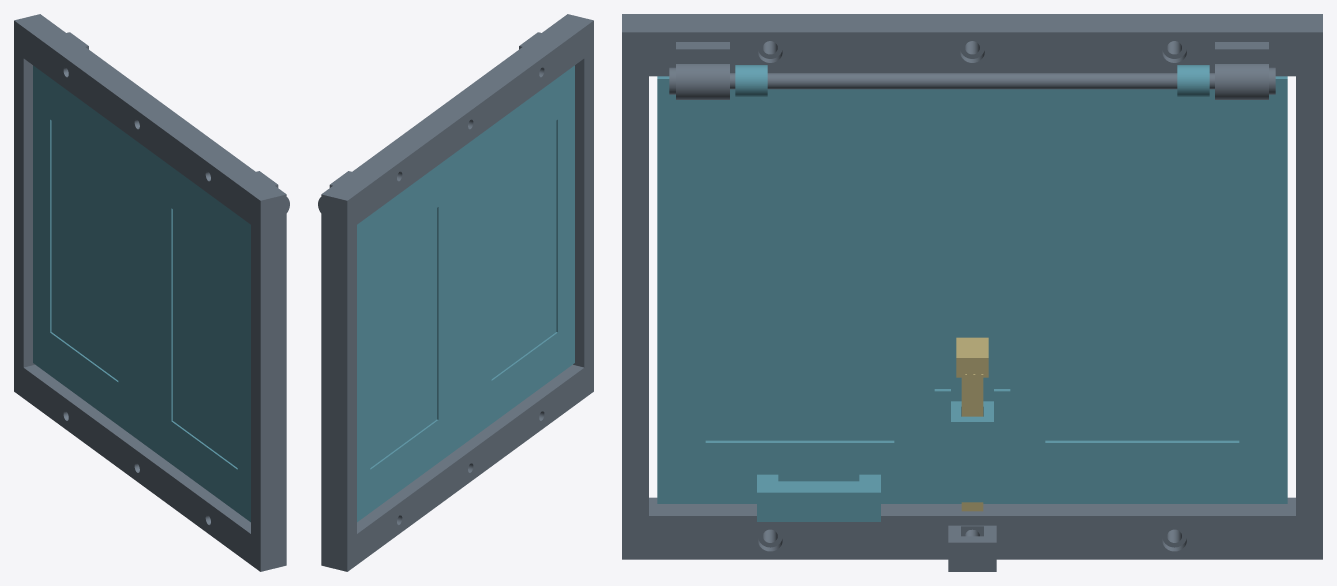
File: original-body-local.glb
3 renders of one model, left to right at view 1: azimuth 30°, elevation 25°; view 2: azimuth 150°, elevation 25°; view 3: azimuth 270°, elevation 25°, orthographic. The views are drawn at different scales.
Visible parts, largest first — view 1: door, frame; view 2: door, frame; view 3: door, frame, bolt.
Part boxes in pixels (x1,y1,x2,y2): door: [33, 65, 250, 522]; frame: [14, 14, 289, 571]; door: [357, 65, 574, 522]; frame: [318, 14, 593, 571]; door: [657, 65, 1287, 521]; frame: [622, 14, 1322, 571]; bolt: [956, 337, 988, 511].
Size of the model in its own units: 0.034 by 0.216 by 0.26.
